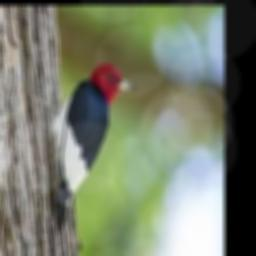Woodpecker: (39, 62, 138, 233)
